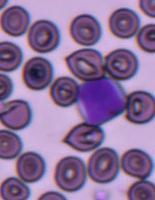L: (76, 76, 126, 124)
